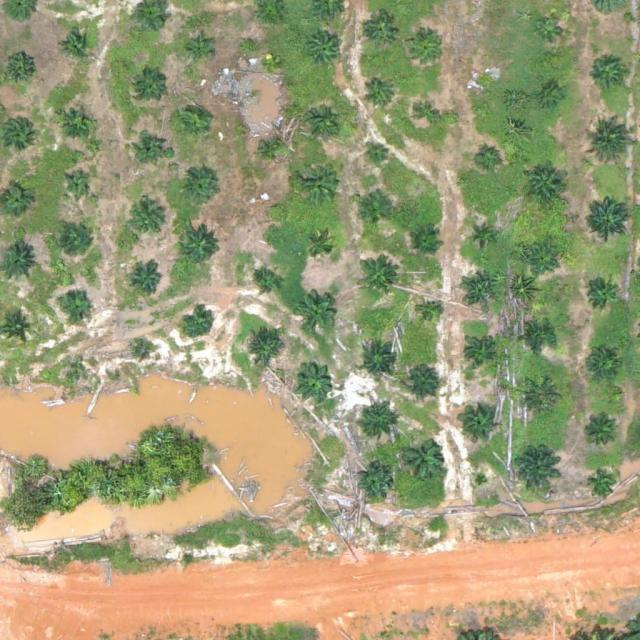Grass: (541, 86, 564, 110)
Small: (297, 156, 344, 204), (584, 121, 631, 168), (586, 192, 633, 239), (514, 445, 561, 492), (398, 437, 445, 484), (295, 293, 335, 333), (181, 224, 220, 264), (589, 52, 628, 92), (304, 104, 343, 144), (58, 102, 97, 142), (356, 404, 395, 444), (460, 405, 500, 444), (355, 465, 395, 504), (522, 379, 561, 419), (245, 327, 284, 367), (460, 268, 499, 307), (357, 257, 396, 296), (525, 167, 564, 206), (129, 201, 168, 240), (307, 34, 346, 73), (179, 168, 218, 207), (293, 362, 332, 401), (361, 343, 400, 382), (402, 361, 441, 400), (526, 246, 557, 278), (586, 278, 617, 310), (60, 287, 91, 319), (63, 226, 94, 258), (2, 314, 33, 346), (4, 53, 35, 85), (61, 31, 92, 63), (588, 349, 619, 381), (523, 323, 554, 354), (132, 266, 163, 297), (183, 308, 214, 339), (136, 131, 167, 162), (138, 3, 169, 34), (136, 71, 167, 102), (368, 14, 399, 45), (411, 34, 442, 65), (357, 198, 388, 229), (178, 106, 209, 137), (2, 118, 33, 149), (585, 418, 616, 449), (463, 337, 494, 368), (589, 469, 620, 500), (411, 228, 442, 259), (305, 233, 336, 264), (252, 269, 283, 300), (257, 133, 288, 164), (365, 79, 396, 110), (187, 37, 211, 61), (420, 303, 444, 327), (366, 142, 390, 166), (475, 76, 499, 100), (417, 102, 441, 126), (470, 225, 493, 249), (479, 148, 503, 171), (66, 173, 89, 197), (538, 16, 561, 39), (135, 341, 151, 357), (76, 362, 92, 378), (262, 55, 278, 70), (267, 202, 282, 217)
